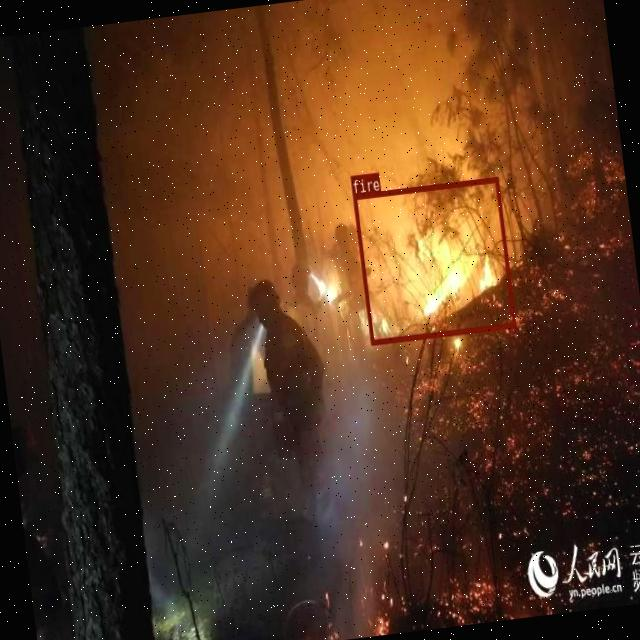fire: (352, 175, 516, 344)
